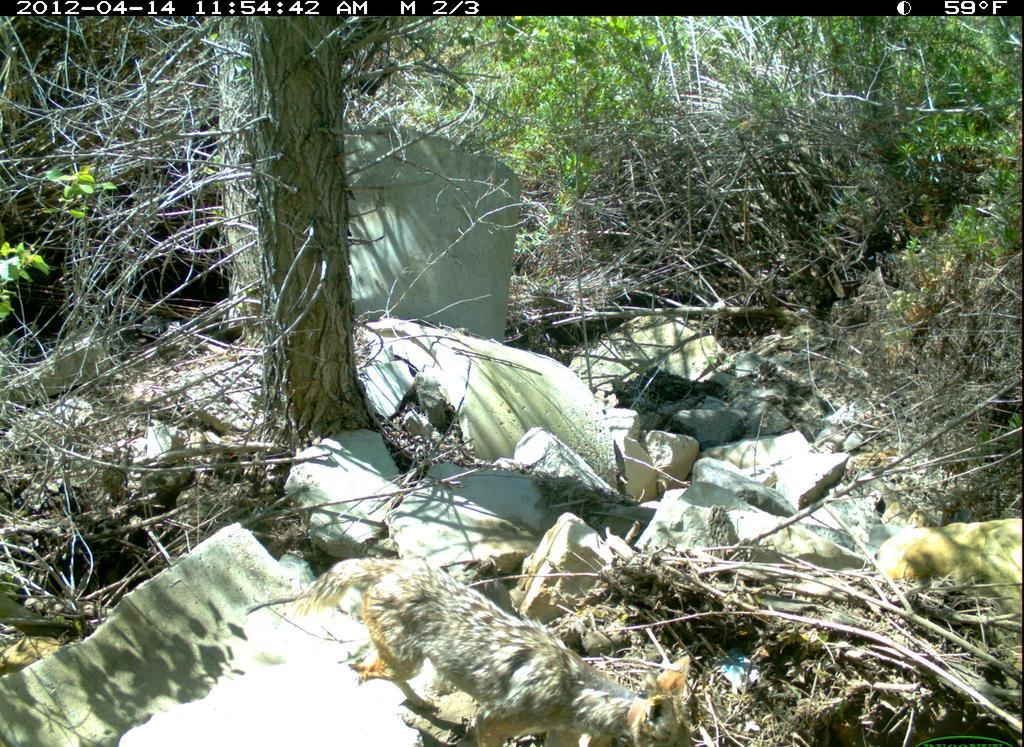coyote: (280, 547, 707, 744)
